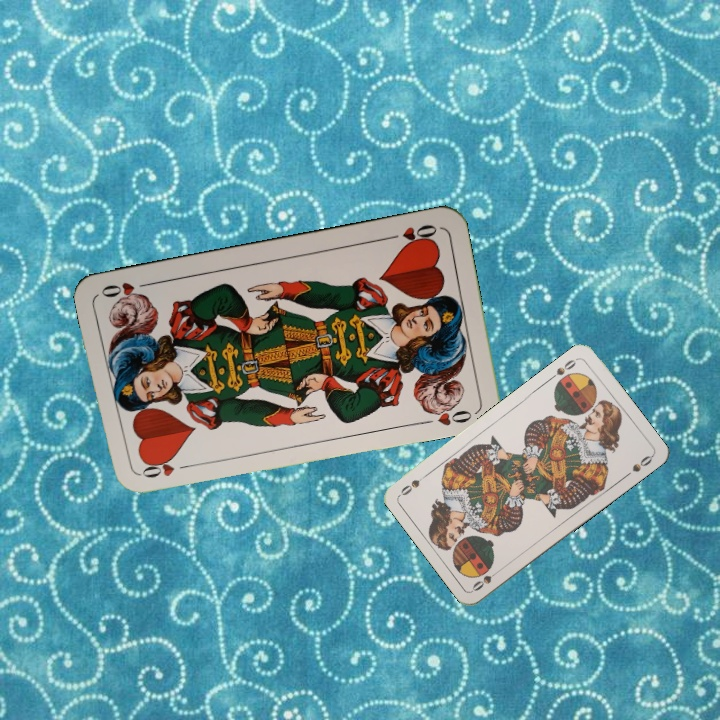HO: (383, 220, 440, 248), (132, 454, 177, 481)
SO: (468, 564, 504, 594), (546, 354, 581, 383)
